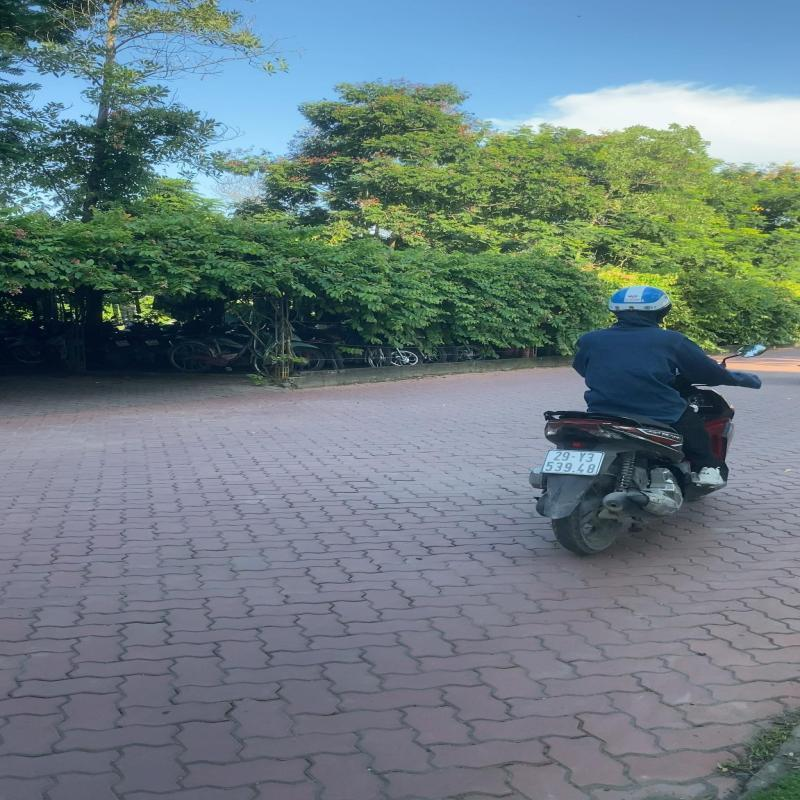helmet: (610, 286, 671, 314)
licenseplate: (540, 450, 604, 476)
motorcyclist: (532, 285, 765, 556)
